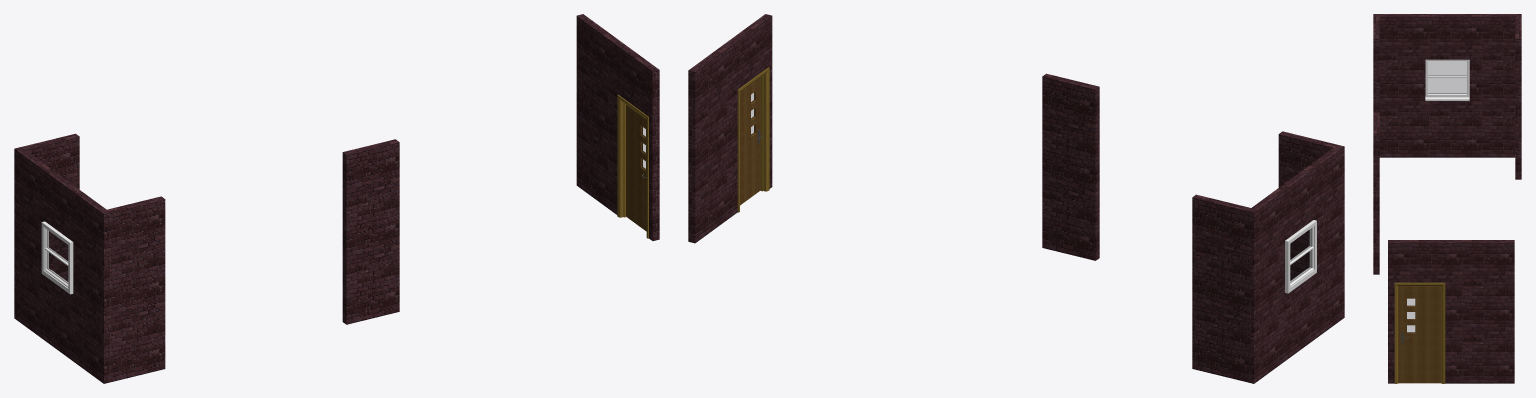
3 views of the same model, side by side, from view 1: azimuth 30°, elevation 25°; view 2: azimuth 150°, elevation 25°; view 3: azimuth 270°, elevation 25° (orthographic). The views are drawn at different scales.
Parts seen in each view (by area): view 1: Basic Wall Wall-Ext_215Bwk [640542]001, Basic Wall Wall-Ext_215Bwk [640476]001, Basic Wall Wall-Ext_215Bwk [634660]001, Basic Wall Wall-Ext_215Bwk [640806]001, Doors_IntSgl_4 910x2110mm [636927]001, Basic Wall Wall-Ext_215Bwk [640605]001, Windows_SCO_Horz_Bar_Sgl 910x910mm [641310]001; view 2: Basic Wall Wall-Ext_215Bwk [640542]001, Basic Wall Wall-Ext_215Bwk [634660]001, Basic Wall Wall-Ext_215Bwk [640806]001, Basic Wall Wall-Ext_215Bwk [640605]001, Doors_IntSgl_4 910x2110mm [636927]001, Basic Wall Wall-Ext_215Bwk [640476]001, Windows_SCO_Horz_Bar_Sgl 910x910mm [641310]001; view 3: Basic Wall Wall-Ext_215Bwk [640542]001, Basic Wall Wall-Ext_215Bwk [634660]001, Doors_IntSgl_4 910x2110mm [636927]001, Windows_SCO_Horz_Bar_Sgl 910x910mm [641310]001, Basic Wall Wall-Ext_215Bwk [640605]001, Basic Wall Wall-Ext_215Bwk [640806]001, Basic Wall Wall-Ext_215Bwk [640476]001.
Part boxes in pixels (x1,y1,x2,y2): Basic Wall Wall-Ext_215Bwk [640542]001: (14,147,106,380); Basic Wall Wall-Ext_215Bwk [640476]001: (100,196,165,383); Basic Wall Wall-Ext_215Bwk [634660]001: (576,14,659,240); Basic Wall Wall-Ext_215Bwk [640806]001: (342,139,399,324); Doors_IntSgl_4 910x2110mm [636927]001: (617,94,648,238); Basic Wall Wall-Ext_215Bwk [640605]001: (21,133,79,281); Windows_SCO_Horz_Bar_Sgl 910x910mm [641310]001: (41,221,73,294); Basic Wall Wall-Ext_215Bwk [640542]001: (1247,147,1340,383); Basic Wall Wall-Ext_215Bwk [634660]001: (688,14,772,243); Basic Wall Wall-Ext_215Bwk [640806]001: (1042,73,1099,260); Basic Wall Wall-Ext_215Bwk [640605]001: (1192,194,1250,381); Doors_IntSgl_4 910x2110mm [636927]001: (737,67,769,212); Basic Wall Wall-Ext_215Bwk [640476]001: (1278,131,1344,320); Windows_SCO_Horz_Bar_Sgl 910x910mm [641310]001: (1285,220,1316,293); Basic Wall Wall-Ext_215Bwk [640542]001: (1379,14,1521,157); Basic Wall Wall-Ext_215Bwk [634660]001: (1388,240,1514,383); Doors_IntSgl_4 910x2110mm [636927]001: (1394,282,1445,383); Windows_SCO_Horz_Bar_Sgl 910x910mm [641310]001: (1425,59,1469,100); Basic Wall Wall-Ext_215Bwk [640605]001: (1515,16,1521,179); Basic Wall Wall-Ext_215Bwk [640806]001: (1373,112,1379,274); Basic Wall Wall-Ext_215Bwk [640476]001: (1373,14,1379,112).
Size of the model in its own units: 10.59 by 3 by 2.87.
8 materials, 4 textured.
